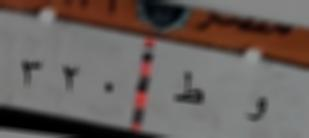0: (95, 74, 119, 101)
2: (57, 60, 83, 98)
3: (18, 53, 45, 94)
Taa: (170, 66, 208, 113)
waw: (241, 84, 271, 129)
